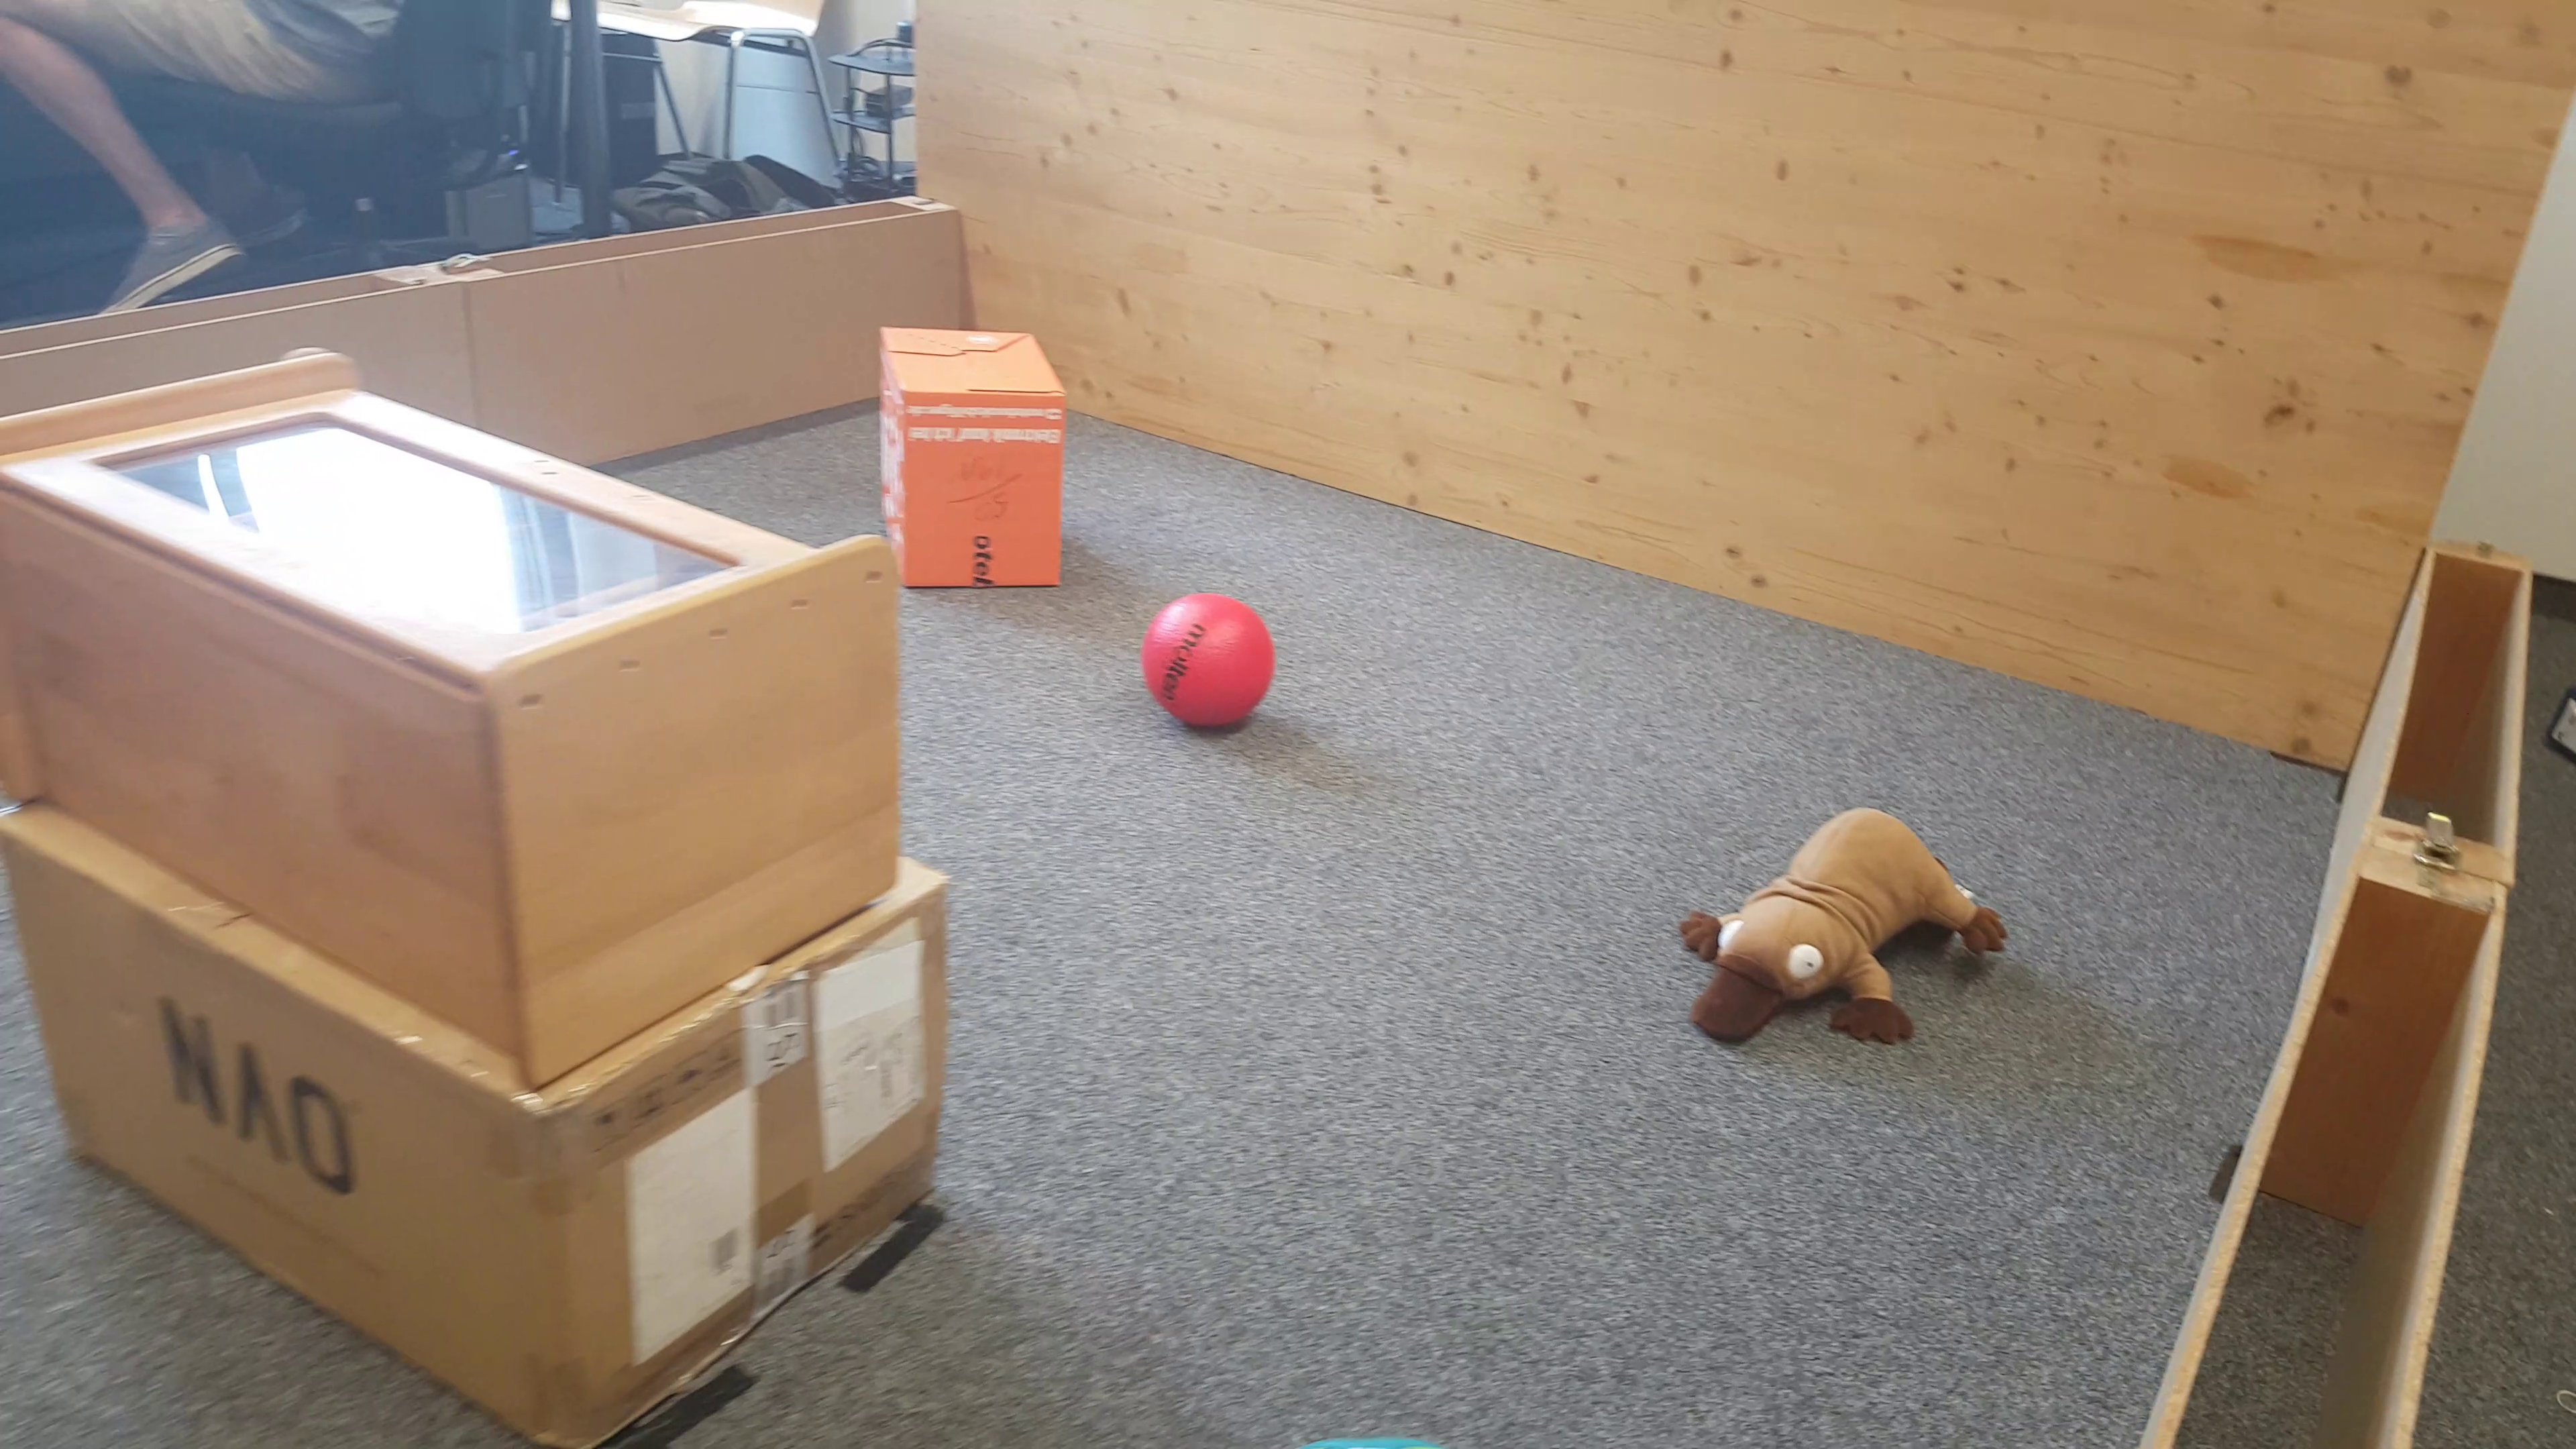grasp: (1681, 800, 2012, 1062)
kick: (1139, 591, 1279, 734)
push: (881, 324, 1074, 598)
